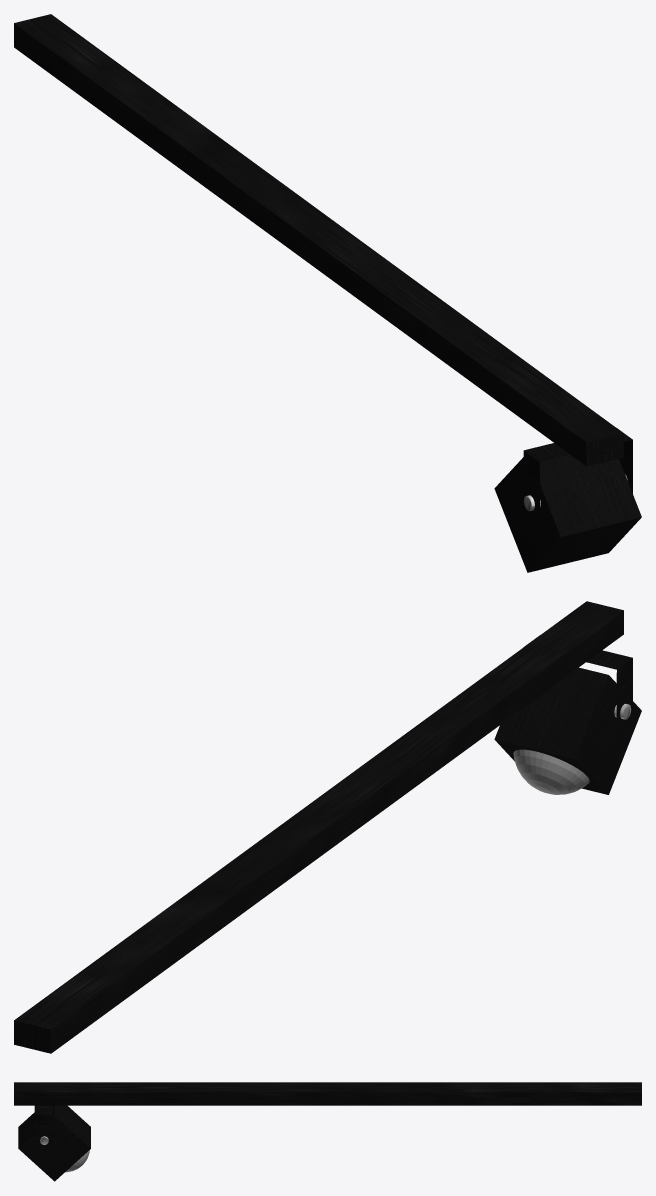
File: luz_arm.obj
3 renders of one model, top to bottom at view 1: azimuth 30°, elevation 25°; view 2: azimuth 150°, elevation 25°; view 3: azimuth 270°, elevation 25°, orthographic. The views are drawn at different scales.
Parts seen in each view (by area): view 1: Cube.004_Cube.001; view 2: Cube.004_Cube.001; view 3: Cube.004_Cube.001.
Part boxes in pixels (x1=…): Cube.004_Cube.001: x1=14, y1=14, x2=641, y2=572; Cube.004_Cube.001: x1=14, y1=601, x2=641, y2=1053; Cube.004_Cube.001: x1=14, y1=1082, x2=641, y2=1181.
Bounding box in the file's own units: 0.4282 × 0.6271 × 4.27.
